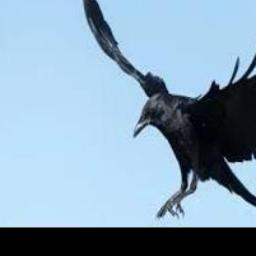Crow: (80, 0, 256, 221)
